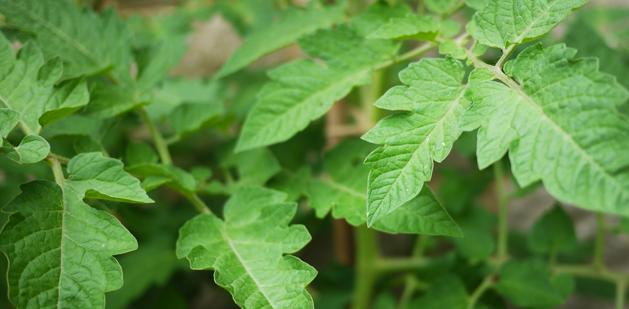Tomato leaf: (7, 127, 171, 309), (480, 36, 629, 230), (344, 50, 496, 237), (228, 24, 402, 157), (179, 170, 326, 309), (4, 0, 136, 93), (211, 5, 350, 90), (471, 0, 629, 62)
